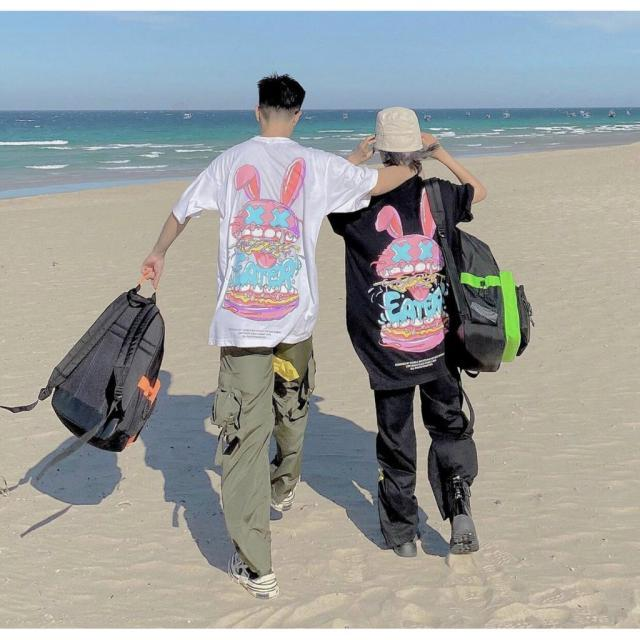Shirt: (176, 142, 372, 342), (330, 174, 470, 384)
